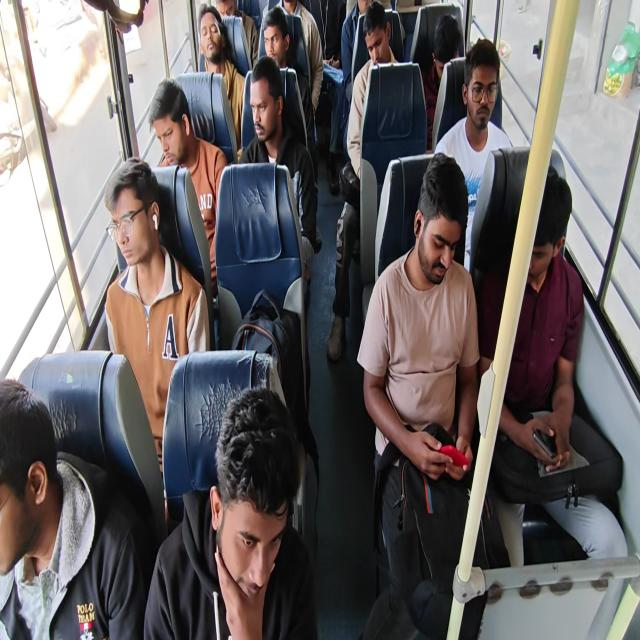person: (388, 165, 541, 390), (195, 416, 323, 640), (0, 392, 93, 640), (115, 156, 206, 378), (501, 163, 590, 324), (136, 82, 197, 192), (240, 61, 284, 163), (176, 9, 234, 78), (463, 43, 502, 143), (429, 12, 470, 85), (356, 2, 385, 76), (322, 0, 351, 45), (278, 0, 307, 29), (216, 0, 236, 32), (355, 0, 377, 24)
